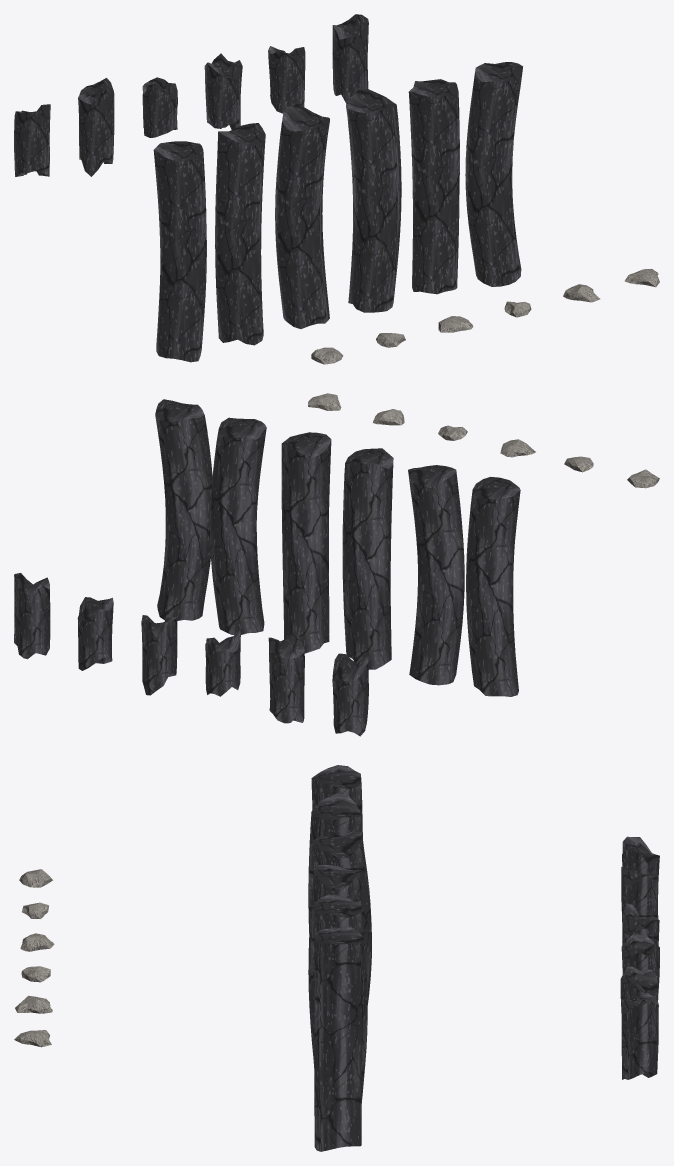
Rendered from binchotan.glb.
3 renders of one model, top to bottom at view 1: azimuth 30°, elevation 25°; view 2: azimuth 150°, elevation 25°; view 3: azimuth 270°, elevation 25°, orthographic. The views are drawn at different scales.
Parts seen in each view (by area): view 1: BinStick3, BinStick5, BinStick0, BinStick2, BinStick1, BinStick4, BinChunk1, BinChunk5, BinChunk3, BinChunk0, BinChunk4, BinChunk2; view 2: BinStick1, BinStick5, BinStick2, BinStick0, BinStick4, BinStick3, BinChunk1, BinChunk5, BinChunk0, BinChunk3, BinChunk4, BinChunk2; view 3: BinStick5, BinChunk5, BinStick2, BinStick3, BinStick1, BinStick4, BinStick0, BinChunk1, BinChunk3, BinChunk0, BinChunk4, BinChunk2.
Part boxes in pixels (x1=…): BinStick3: x1=346, y1=88, x2=401, y2=312; BinStick5: x1=465, y1=62, x2=522, y2=286; BinStick0: x1=153, y1=141, x2=206, y2=362; BinStick2: x1=275, y1=105, x2=329, y2=328; BinStick1: x1=215, y1=123, x2=265, y2=345; BinStick4: x1=408, y1=79, x2=459, y2=294; BinChunk1: x1=78, y1=78, x2=114, y2=176; BinChunk5: x1=332, y1=14, x2=368, y2=103; BinChunk3: x1=204, y1=53, x2=242, y2=129; BinChunk0: x1=14, y1=104, x2=50, y2=176; BinChunk4: x1=268, y1=46, x2=305, y2=113; BinChunk2: x1=142, y1=77, x2=177, y2=137; BinStick1: x1=408, y1=465, x2=464, y2=685; BinStick5: x1=155, y1=399, x2=212, y2=620; BinStick2: x1=342, y1=448, x2=393, y2=669; BinStick0: x1=466, y1=476, x2=520, y2=696; BinStick4: x1=210, y1=417, x2=266, y2=634; BinStick3: x1=281, y1=432, x2=331, y2=653; BinChunk1: x1=268, y1=630, x2=304, y2=723; BinChunk5: x1=14, y1=573, x2=50, y2=659; BinChunk0: x1=332, y1=653, x2=368, y2=736; BinChunk3: x1=141, y1=615, x2=177, y2=695; BinChunk4: x1=77, y1=597, x2=113, y2=670; BinChunk2: x1=205, y1=630, x2=240, y2=696; BinStick5: x1=314, y1=926, x2=364, y2=1151; BinChunk5: x1=621, y1=992, x2=658, y2=1079; BinStick2: x1=312, y1=830, x2=371, y2=1004; BinStick3: x1=308, y1=865, x2=363, y2=1067; BinStick1: x1=308, y1=792, x2=361, y2=932; BinStick4: x1=314, y1=894, x2=367, y2=1102; BinStick0: x1=311, y1=765, x2=362, y2=838; BinChunk1: x1=621, y1=867, x2=658, y2=921; BinChunk3: x1=621, y1=934, x2=659, y2=1001; BinChunk0: x1=622, y1=836, x2=659, y2=877; BinChunk4: x1=620, y1=966, x2=657, y2=1012; BinChunk2: x1=622, y1=904, x2=659, y2=945.
Size of the model in its own units: 0.5655 by 0.3172 by 0.8554.
2 materials, 2 textured.
